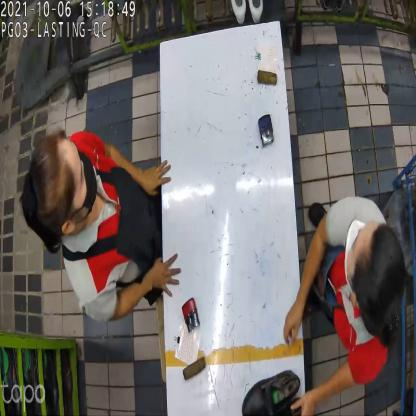stamp: (182, 297, 201, 334), (256, 115, 276, 150)
